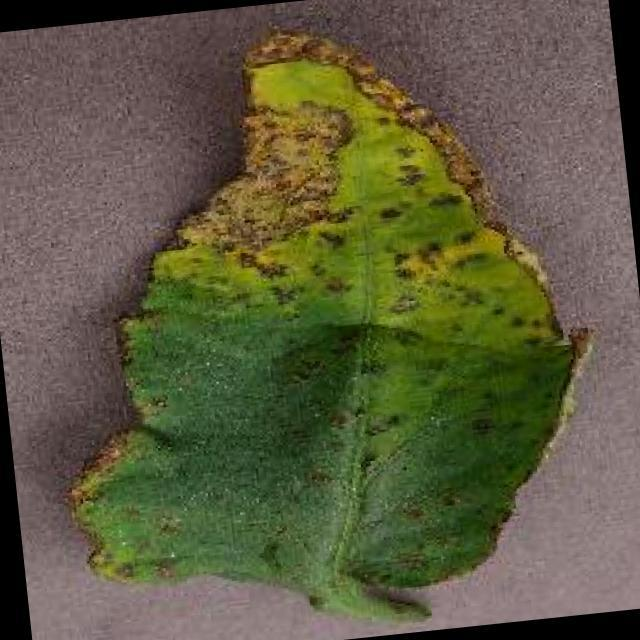Tomato bacterial spot leaf: (8, 0, 616, 631)
